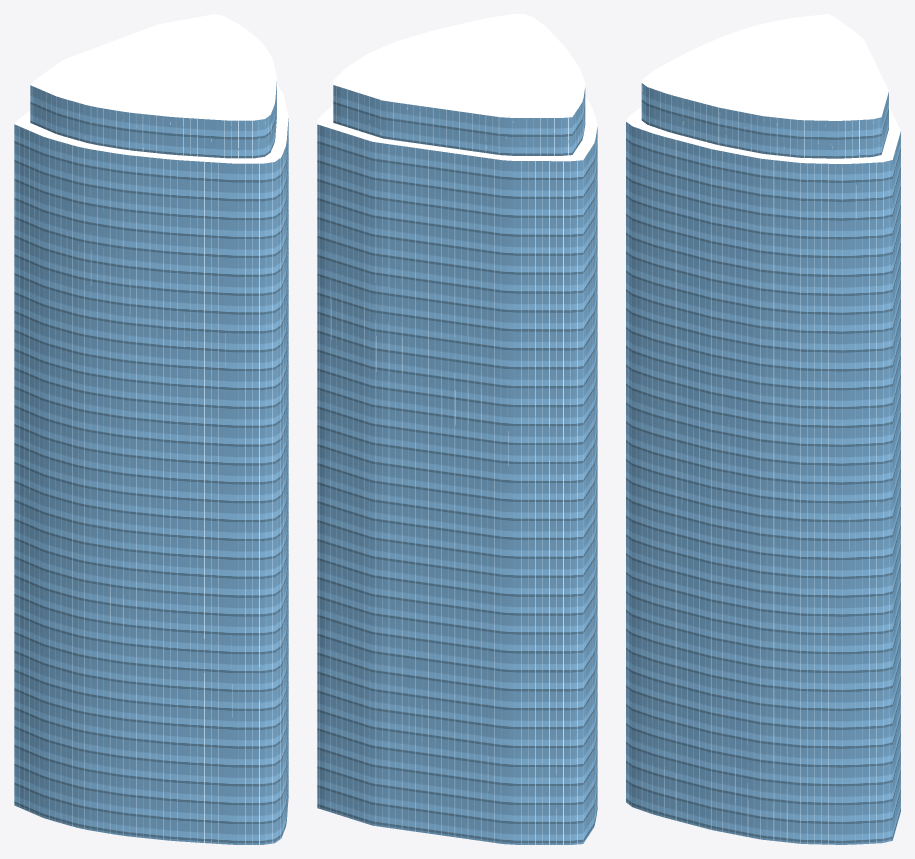
The model's file is landmark-port-baku-north-tower.glb.
3 views of the same model, side by side, from view 1: azimuth 30°, elevation 25°; view 2: azimuth 150°, elevation 25°; view 3: azimuth 270°, elevation 25° (orthographic).
Visible parts, largest first — view 1: port-baku-north-tower; view 2: port-baku-north-tower; view 3: port-baku-north-tower.
Part boxes in pixels (x1=…): port-baku-north-tower: x1=14, y1=14, x2=288, y2=844; port-baku-north-tower: x1=317, y1=14, x2=597, y2=844; port-baku-north-tower: x1=626, y1=14, x2=900, y2=844.
Bounding box in the file's own units: 61.03 × 172 × 59.58.
2 materials, 1 textured.
